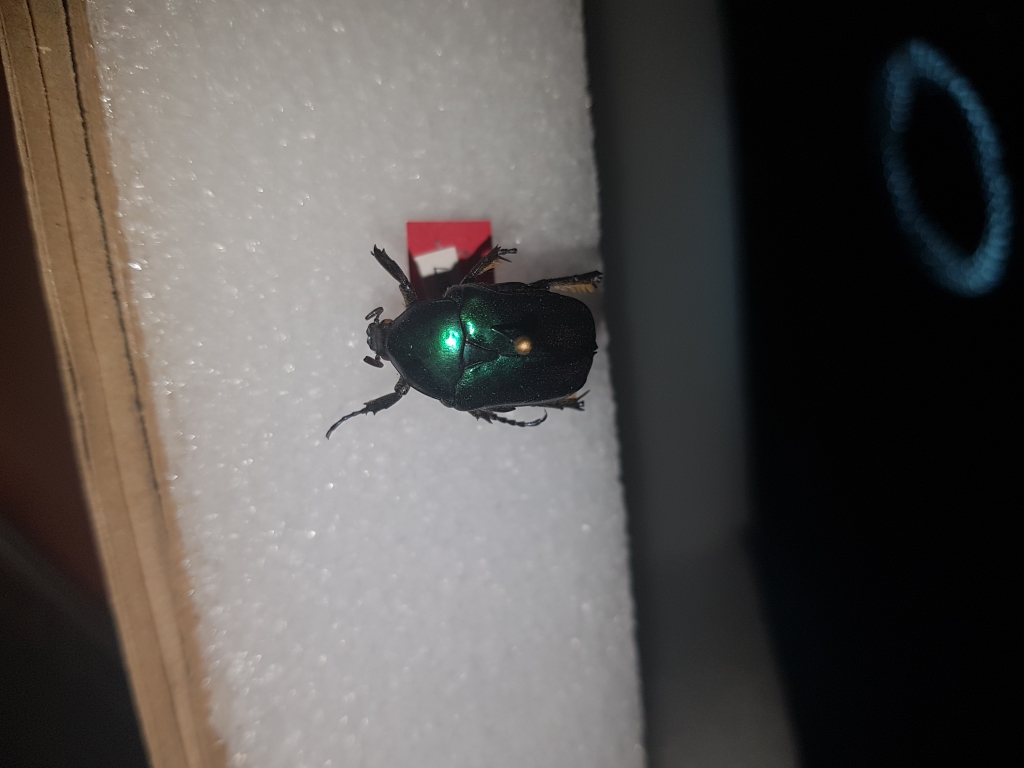Protaetia_besucheti: (318, 226, 627, 464)
